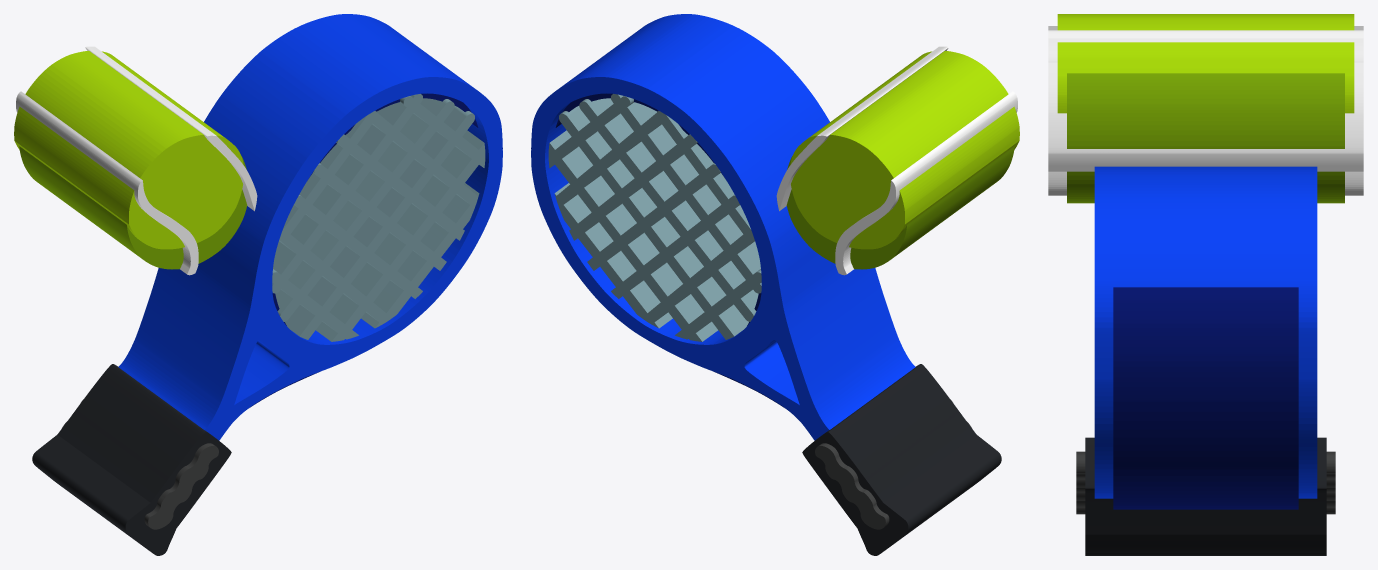
3 views of the same model, side by side, from view 1: azimuth 30°, elevation 25°; view 2: azimuth 150°, elevation 25°; view 3: azimuth 270°, elevation 25° (orthographic). The views are drawn at different scales.
Parts seen in each view (by area): view 1: U+1F3BE_layer02_obj00, U+1F3BE_layer06_obj00, U+1F3BE_layer03_obj00, U+1F3BE_layer01_obj05, U+1F3BE_layer01_obj11, U+1F3BE_layer01_obj10, U+1F3BE_layer05_obj00, U+1F3BE_layer01_obj03, U+1F3BE_layer07_obj01, U+1F3BE_layer01_obj12, U+1F3BE_layer04_obj00, U+1F3BE_layer01_obj04 (+8 smaller); view 2: U+1F3BE_layer02_obj00, U+1F3BE_layer06_obj00, U+1F3BE_layer03_obj00, U+1F3BE_layer01_obj05, U+1F3BE_layer01_obj11, U+1F3BE_layer01_obj10, U+1F3BE_layer05_obj00, U+1F3BE_layer01_obj03, U+1F3BE_layer07_obj01, U+1F3BE_layer01_obj12, U+1F3BE_layer01_obj04, U+1F3BE_layer04_obj00 (+8 smaller); view 3: U+1F3BE_layer00_obj00, U+1F3BE_layer02_obj00, U+1F3BE_layer05_obj00, U+1F3BE_layer06_obj00, U+1F3BE_layer03_obj00, U+1F3BE_layer07_obj00, U+1F3BE_layer04_obj00, U+1F3BE_layer07_obj01.
Part boxes in pixels (x1=…): U+1F3BE_layer02_obj00: x1=118, y1=14, x2=502, y2=440; U+1F3BE_layer06_obj00: x1=14, y1=51, x2=243, y2=249; U+1F3BE_layer03_obj00: x1=32, y1=364, x2=231, y2=555; U+1F3BE_layer01_obj05: x1=285, y1=106, x2=474, y2=339; U+1F3BE_layer01_obj11: x1=316, y1=130, x2=485, y2=341; U+1F3BE_layer01_obj10: x1=275, y1=98, x2=454, y2=321; U+1F3BE_layer05_obj00: x1=19, y1=146, x2=247, y2=269; U+1F3BE_layer01_obj03: x1=272, y1=94, x2=422, y2=293; U+1F3BE_layer07_obj01: x1=16, y1=91, x2=198, y2=275; U+1F3BE_layer01_obj12: x1=361, y1=183, x2=479, y2=328; U+1F3BE_layer04_obj00: x1=62, y1=399, x2=218, y2=529; U+1F3BE_layer01_obj04: x1=280, y1=111, x2=377, y2=240; U+1F3BE_layer02_obj00: x1=531, y1=14, x2=915, y2=440; U+1F3BE_layer06_obj00: x1=790, y1=51, x2=1019, y2=249; U+1F3BE_layer03_obj00: x1=802, y1=364, x2=1001, y2=555; U+1F3BE_layer01_obj05: x1=559, y1=106, x2=748, y2=339; U+1F3BE_layer01_obj11: x1=548, y1=130, x2=717, y2=341; U+1F3BE_layer01_obj10: x1=579, y1=98, x2=758, y2=321; U+1F3BE_layer05_obj00: x1=786, y1=146, x2=1014, y2=269; U+1F3BE_layer01_obj03: x1=611, y1=94, x2=761, y2=293; U+1F3BE_layer07_obj01: x1=835, y1=91, x2=1017, y2=275; U+1F3BE_layer01_obj12: x1=554, y1=183, x2=672, y2=328; U+1F3BE_layer01_obj04: x1=656, y1=111, x2=753, y2=241; U+1F3BE_layer04_obj00: x1=815, y1=399, x2=971, y2=529; U+1F3BE_layer00_obj00: x1=1113, y1=287, x2=1298, y2=509; U+1F3BE_layer02_obj00: x1=1094, y1=166, x2=1317, y2=498; U+1F3BE_layer05_obj00: x1=1067, y1=73, x2=1344, y2=203; U+1F3BE_layer06_obj00: x1=1057, y1=14, x2=1354, y2=113; U+1F3BE_layer03_obj00: x1=1085, y1=437, x2=1326, y2=555; U+1F3BE_layer07_obj00: x1=1048, y1=30, x2=1363, y2=171; U+1F3BE_layer04_obj00: x1=1076, y1=451, x2=1335, y2=514; U+1F3BE_layer07_obj01: x1=1048, y1=26, x2=1363, y2=195.
Bounding box in the file's own units: 0.3182 × 0.3245 × 0.17.
